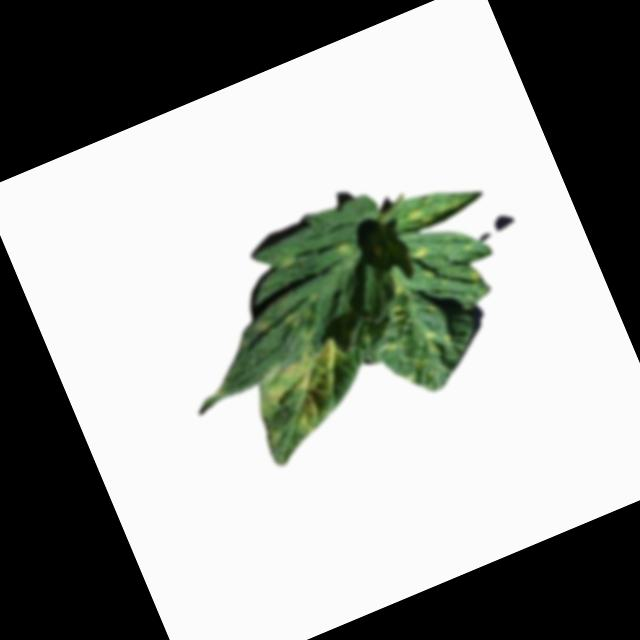Leaf_Mold: (243, 334, 367, 449), (362, 268, 468, 392), (251, 291, 336, 361), (403, 198, 439, 232), (335, 239, 354, 265), (412, 243, 434, 261)
